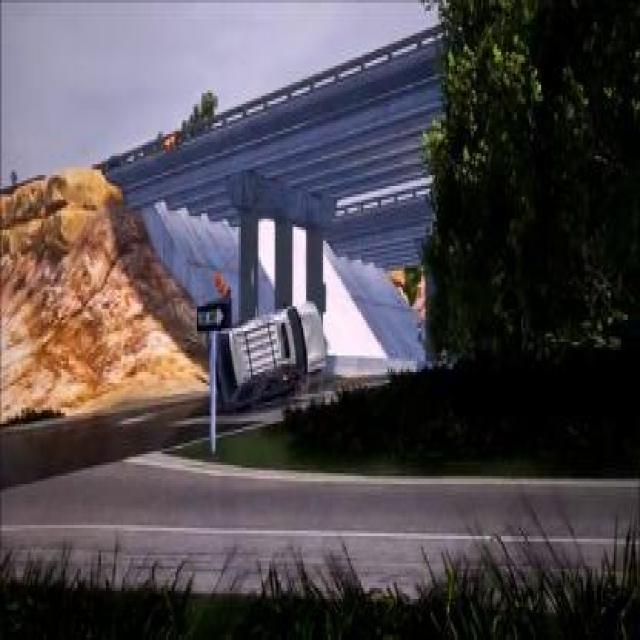accident: (205, 294, 328, 417)
